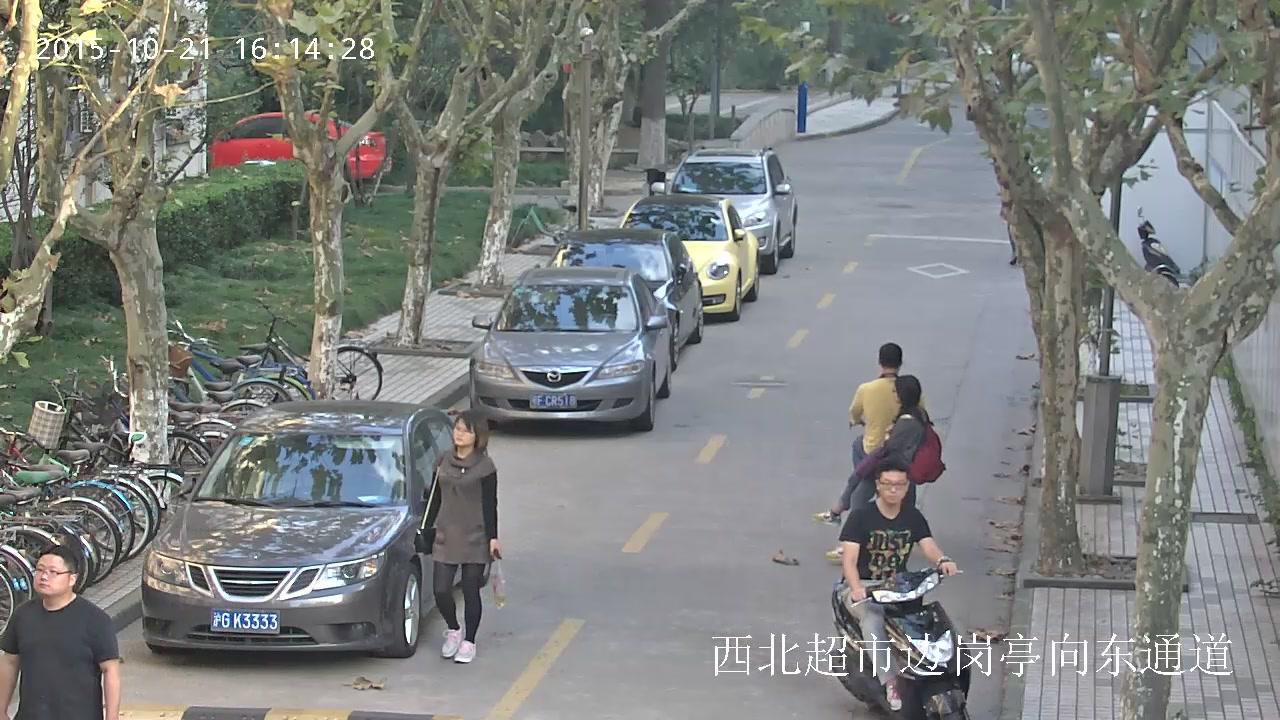face: (33, 553, 69, 594), (879, 470, 907, 503), (454, 417, 475, 446), (892, 382, 897, 401)
